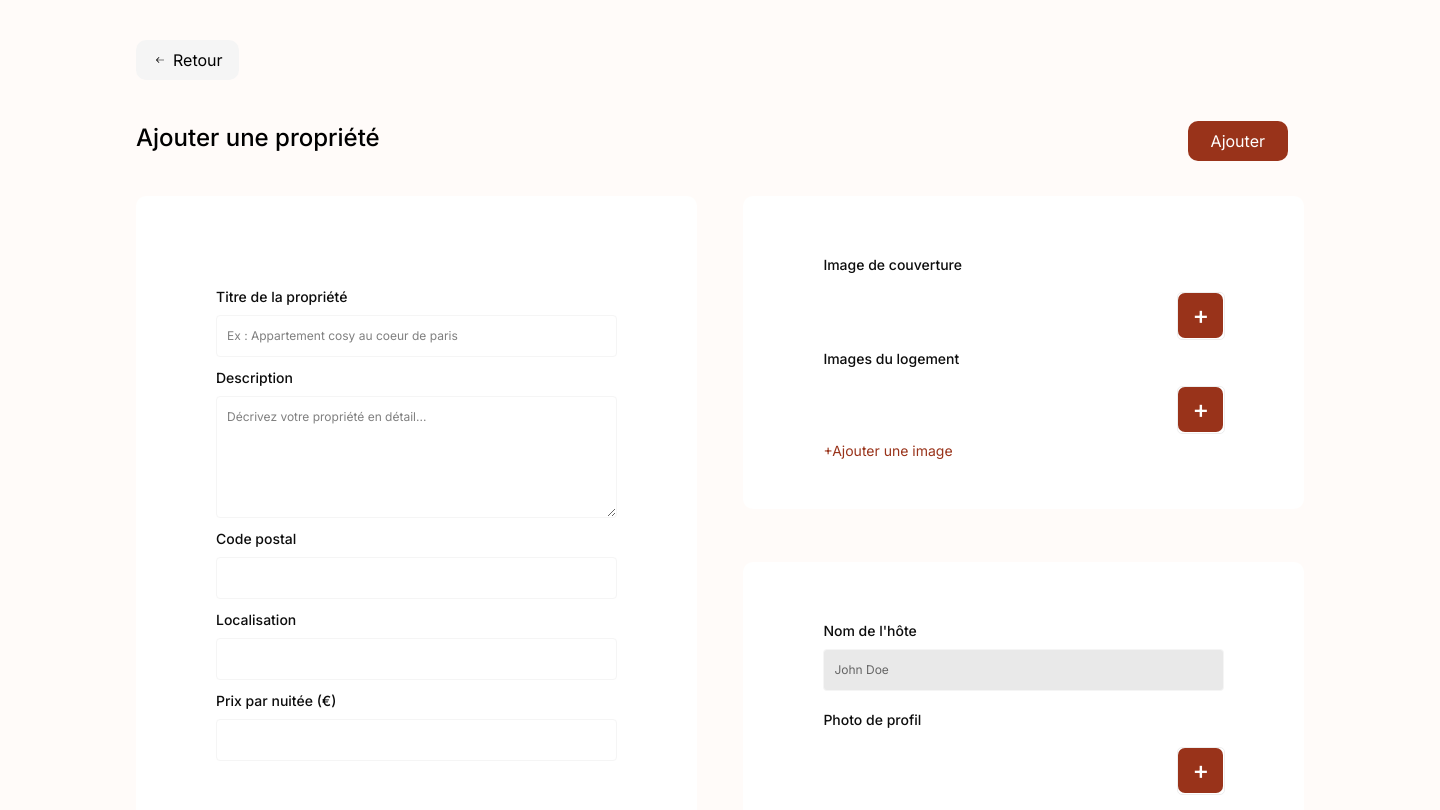
ajouter une propriété › soulève une erreur si le champ titre est trop court
In the field labelled "Titre de la propriété": [416, 336] box 216,315 -> 617,357, type "ma"
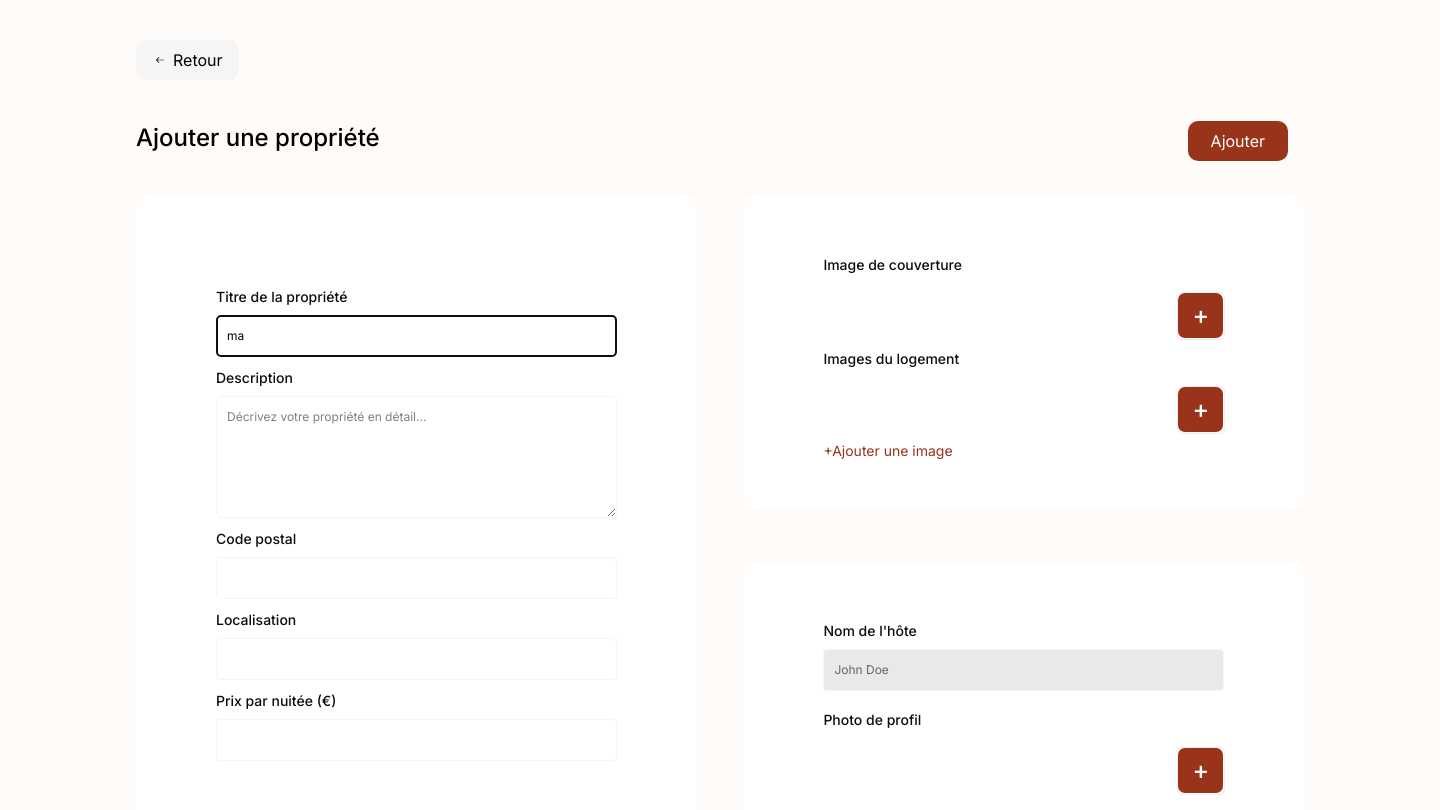
Click the button with aria-label "Ajouter la propriété": [1238, 141] box 1188,121 -> 1288,161
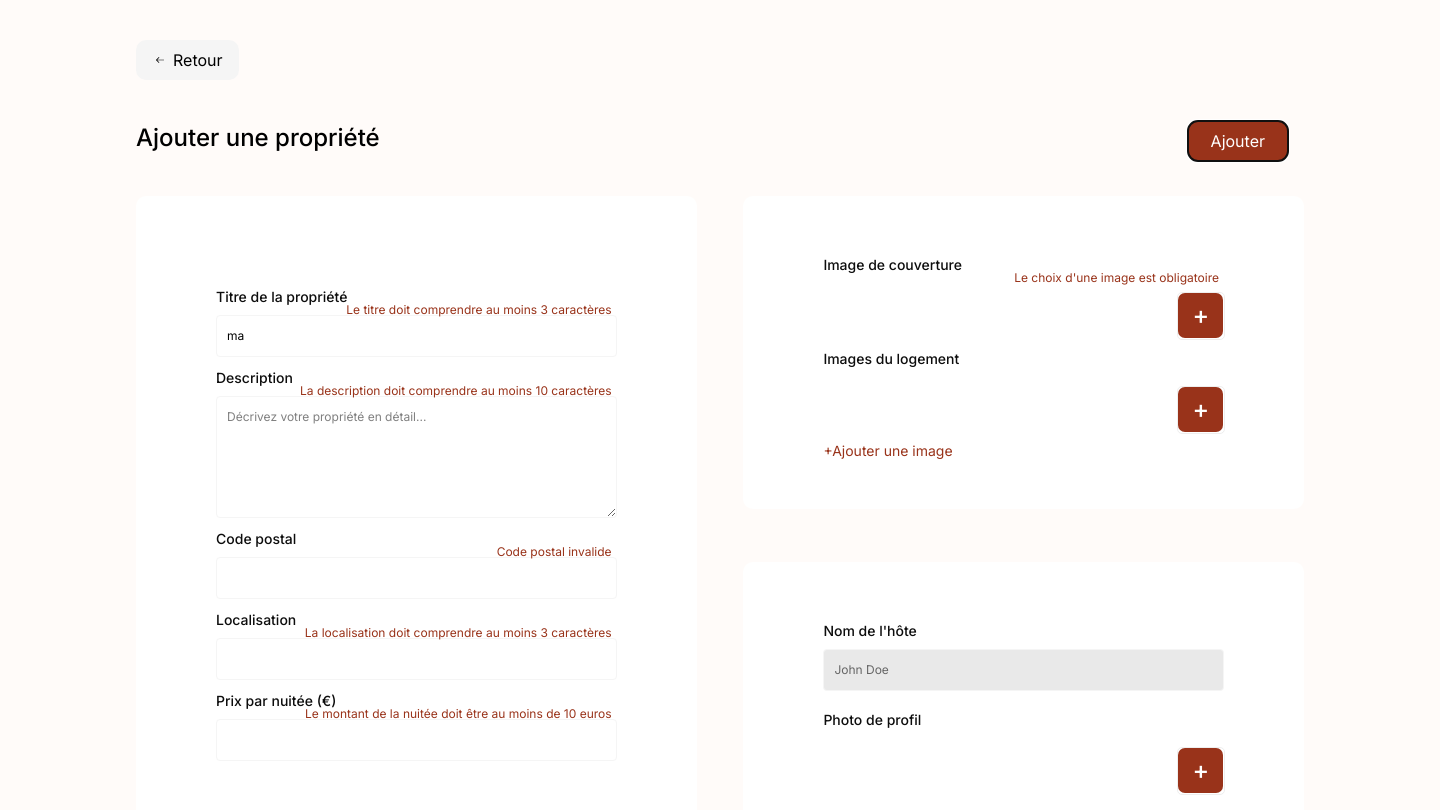
Now the text "Le titre doit comprendre au moins 3 caractères" is shown, box 346,301 -> 612,319
